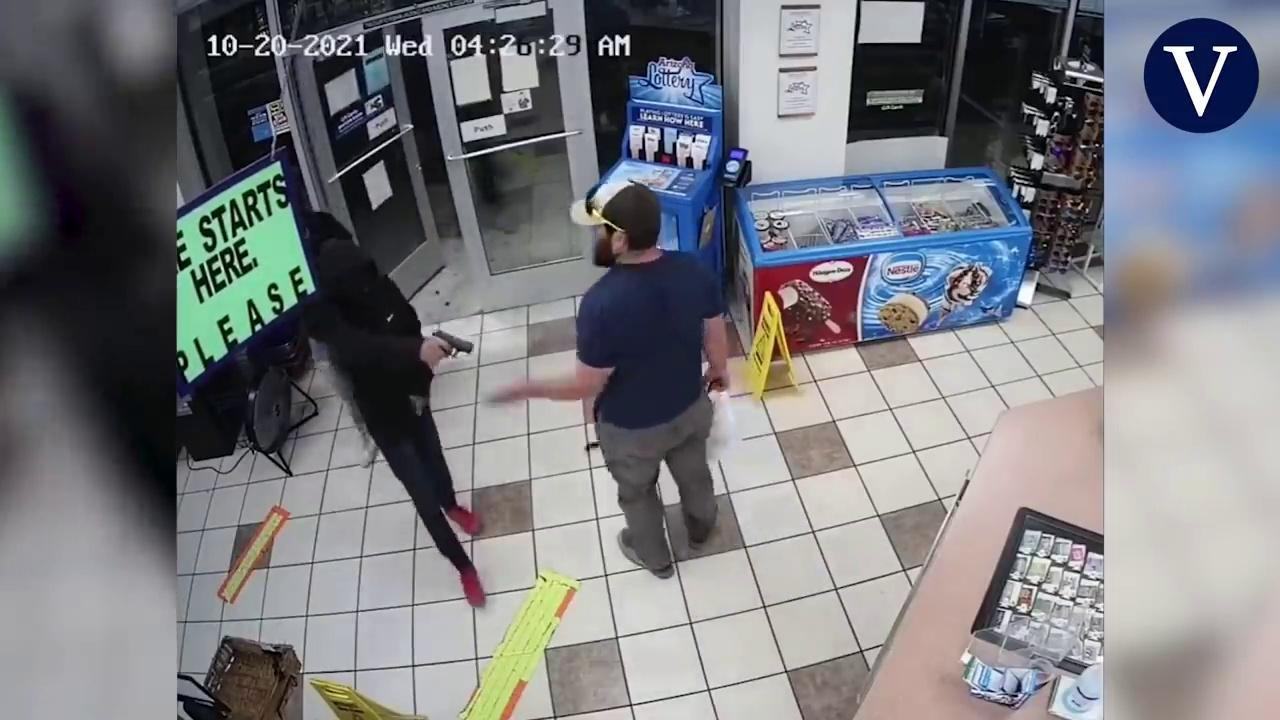Guns: (417, 316, 491, 375)
